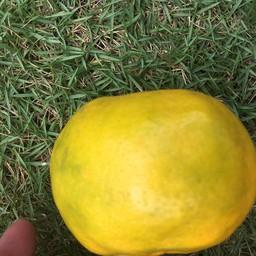Good_orange: (50, 90, 256, 256)
